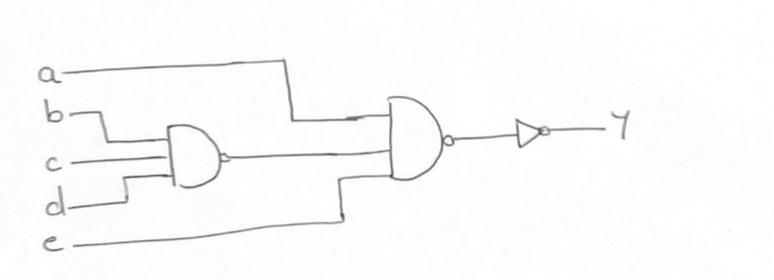NAND: (377, 86, 461, 192), (156, 113, 245, 195)
NOT: (505, 107, 560, 157)
